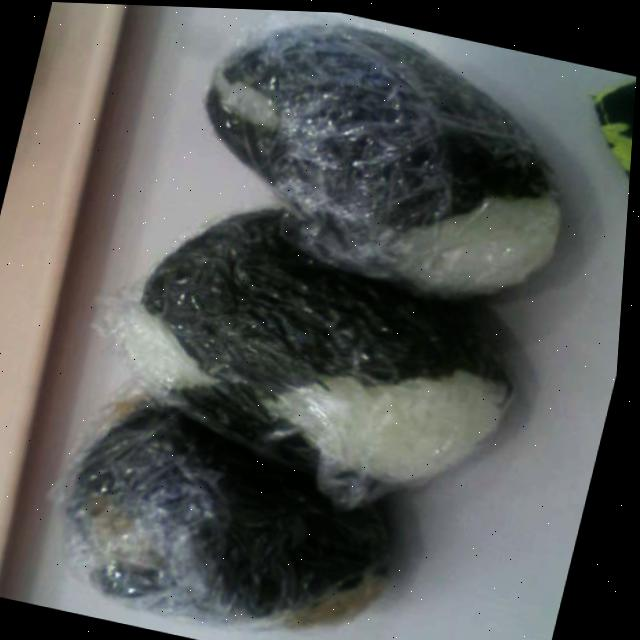米饭主食: (82, 179, 571, 538), (149, 5, 640, 321), (20, 364, 451, 640)
